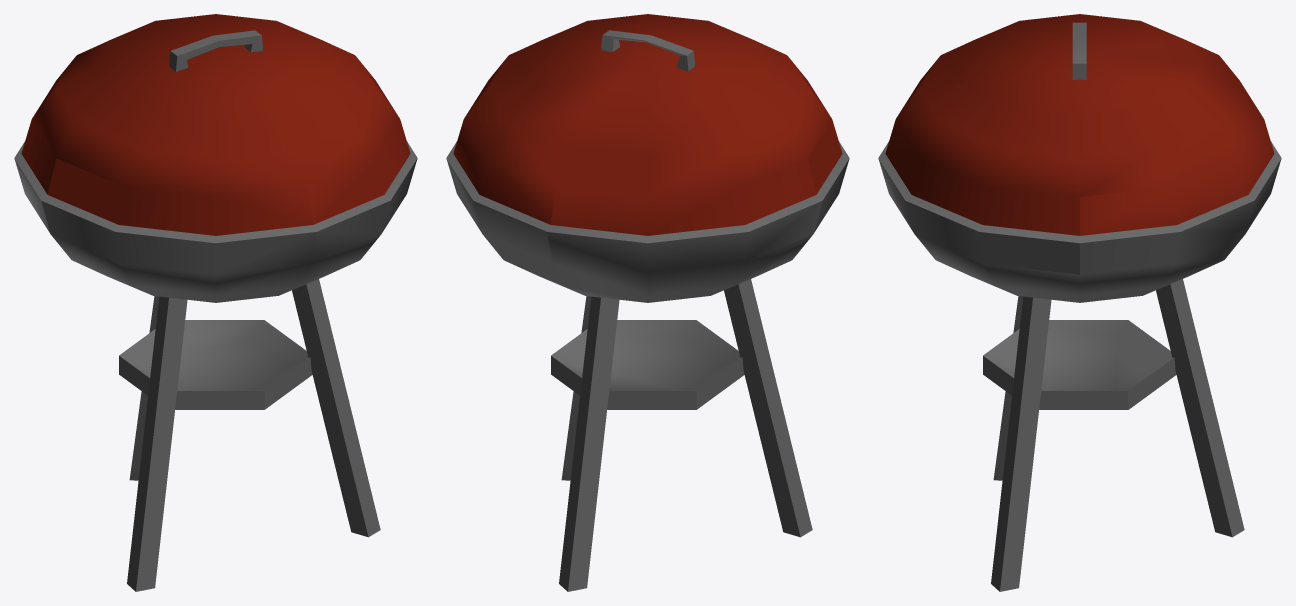
File: Grill.glb
3 renders of one model, left to right at view 1: azimuth 30°, elevation 25°; view 2: azimuth 150°, elevation 25°; view 3: azimuth 270°, elevation 25°, orthographic.
Parts seen in each view (by area): view 1: Grill1; view 2: Grill1; view 3: Grill1.
Part boxes in pixels (bbox=[...]): Grill1: bbox=[14, 14, 417, 591]; Grill1: bbox=[446, 14, 849, 591]; Grill1: bbox=[878, 14, 1281, 591].
Bounding box in the file's own units: 0.9431 × 1.27 × 0.9431.
